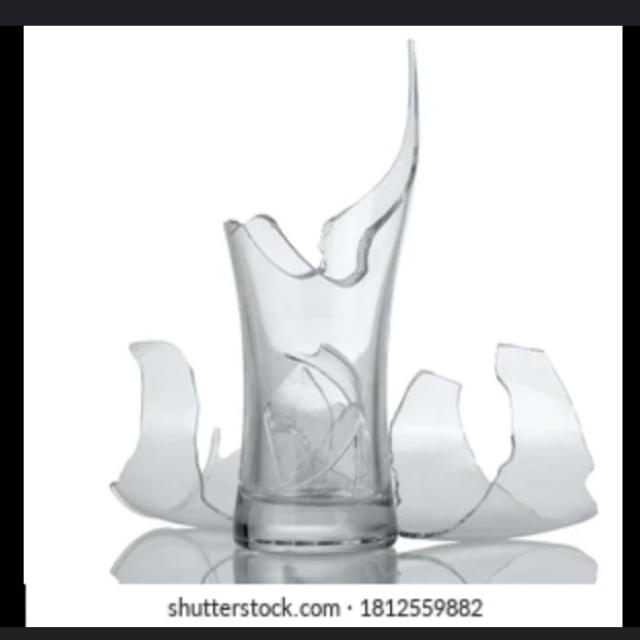PecahanKaca: (109, 37, 598, 556), (220, 37, 422, 555)
